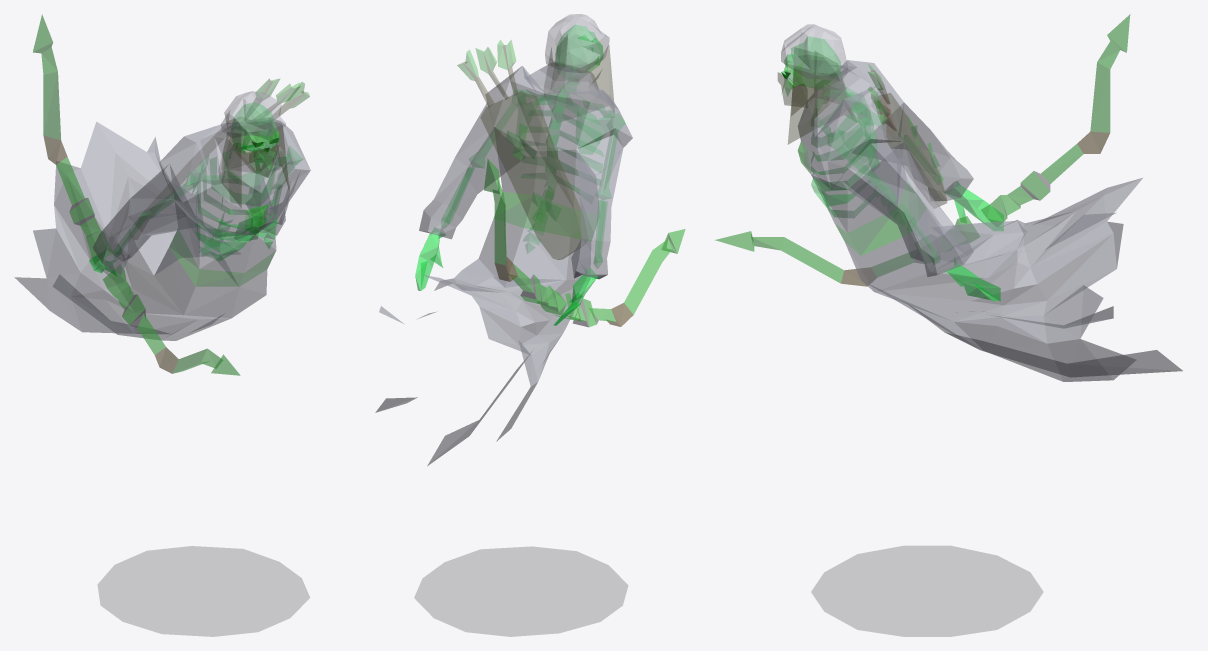
The model's file is soul_ranged.glb.
3 views of the same model, side by side, from view 1: azimuth 30°, elevation 25°; view 2: azimuth 150°, elevation 25°; view 3: azimuth 270°, elevation 25° (orthographic). The views are drawn at different scales.
Size of the model in its own units: 66 by 187 by 144.
Materials: 2 (2 with a texture image).
